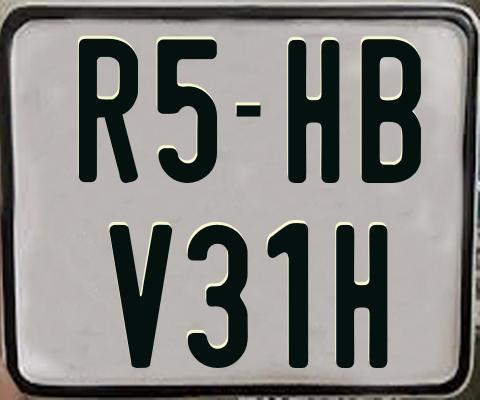1: (267, 221, 309, 371)
3: (187, 223, 253, 369)
5: (154, 39, 220, 187)
B: (361, 38, 422, 188)
H: (287, 38, 341, 184), (334, 223, 387, 369)
R: (79, 37, 143, 184)
V: (108, 224, 170, 369)
